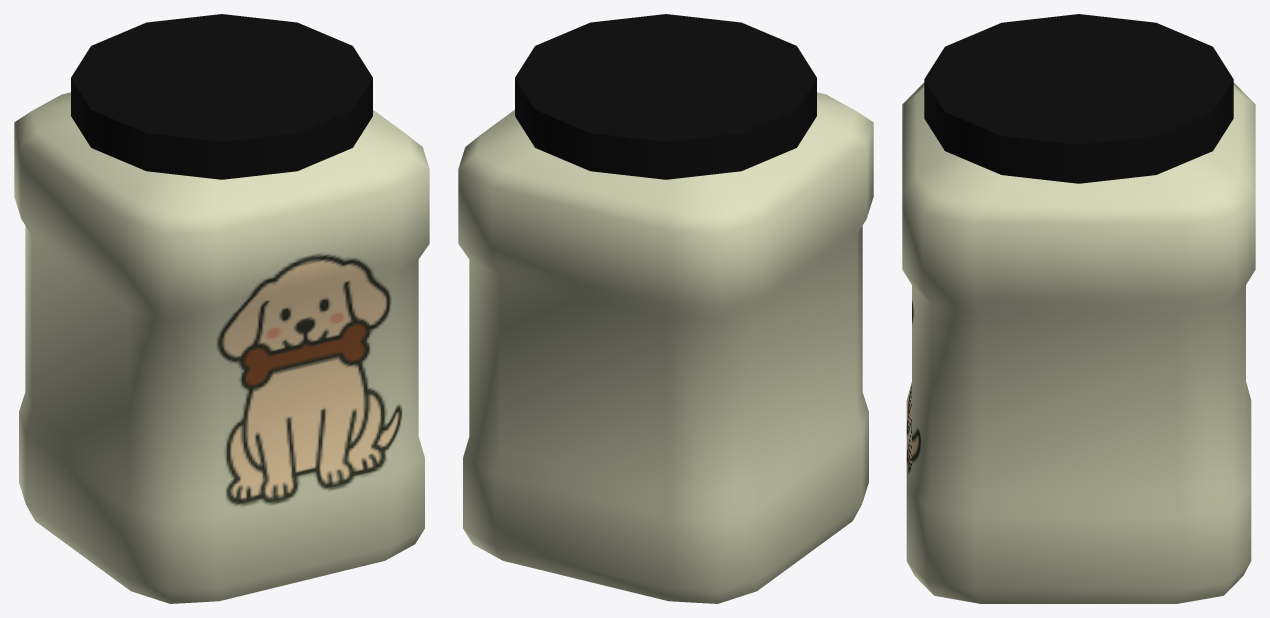
The model's file is snack_box.fbx.
The picture shows the model from 3 angles, left to right: view 1: azimuth 30°, elevation 25°; view 2: azimuth 150°, elevation 25°; view 3: azimuth 270°, elevation 25°; orthographic projection. The views are drawn at different scales.
Parts seen in each view (by area): view 1: snack_box_part_1, snack_box_part_2; view 2: snack_box_part_1, snack_box_part_2; view 3: snack_box_part_1, snack_box_part_2.
Boxes of the visible parts, box(x1,y1,x2,y2) form: snack_box_part_1: box(14, 92, 429, 603); snack_box_part_2: box(71, 14, 372, 179); snack_box_part_1: box(458, 92, 873, 603); snack_box_part_2: box(515, 14, 816, 179); snack_box_part_1: box(902, 83, 1255, 603); snack_box_part_2: box(924, 14, 1233, 183).
Bounding box in the file's own units: 14.18 × 20.17 × 14.18.
Materials: 1 (1 with a texture image).
